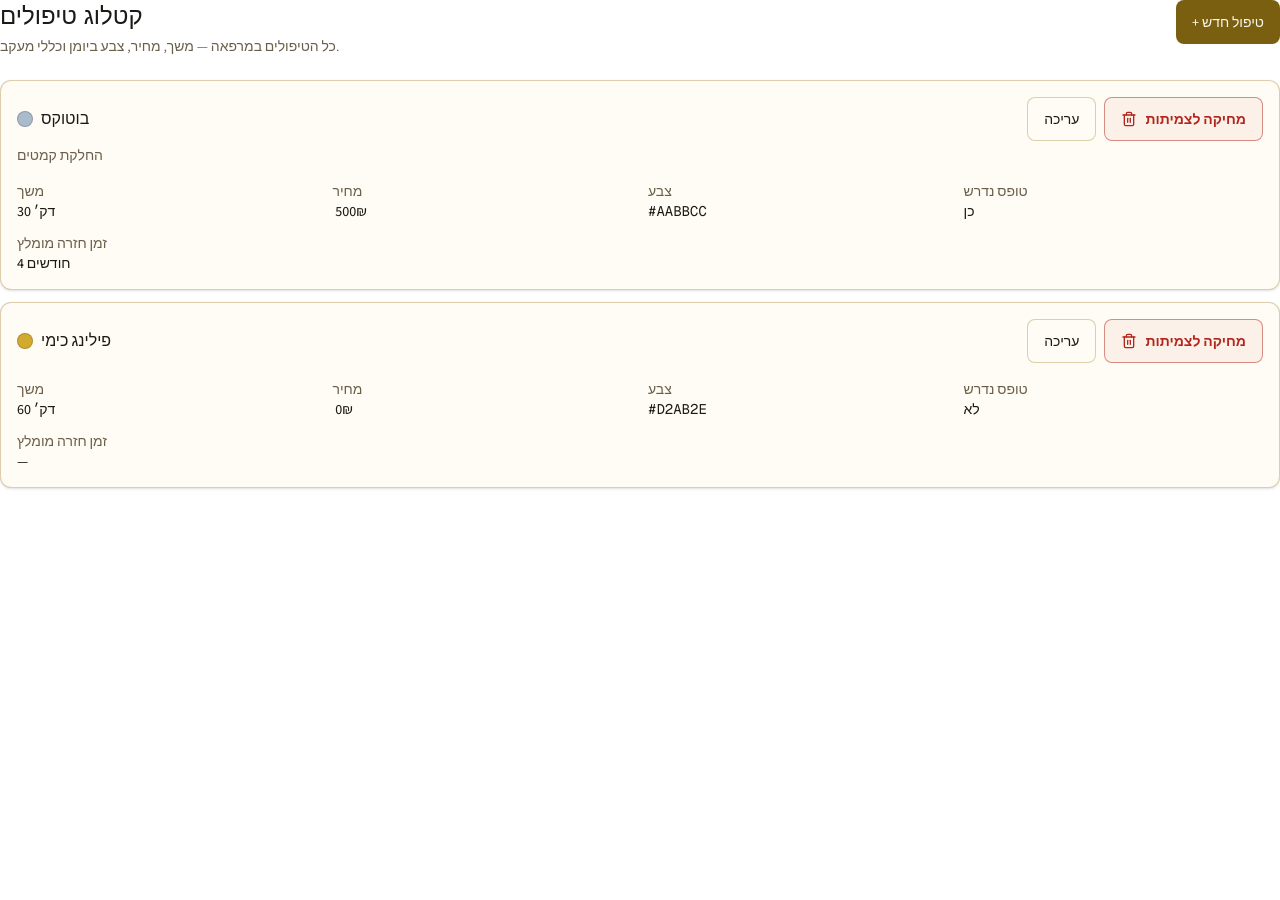
TreatmentsCatalog — פתיחת דיאלוג › "+ טיפול חדש" פותח דיאלוג יצירה
Click the button "+ טיפול חדש" at {"x": 1228, "y": 22}, box [1176, 0, 1279, 44]
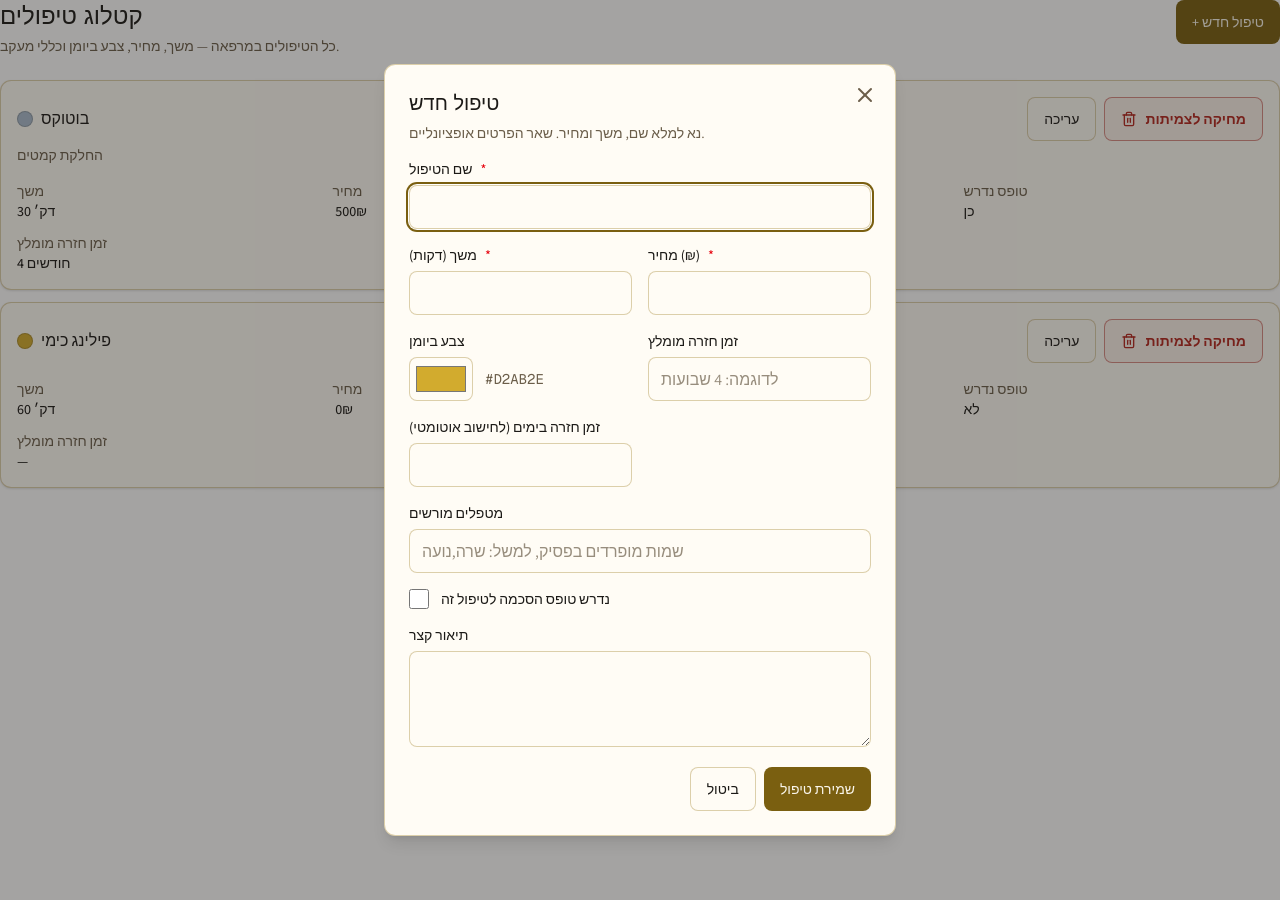
Now the heading "טיפול חדש" is shown, box [409, 92, 499, 114]
Now the field with id "nt-name" is empty, box [409, 185, 871, 229]
